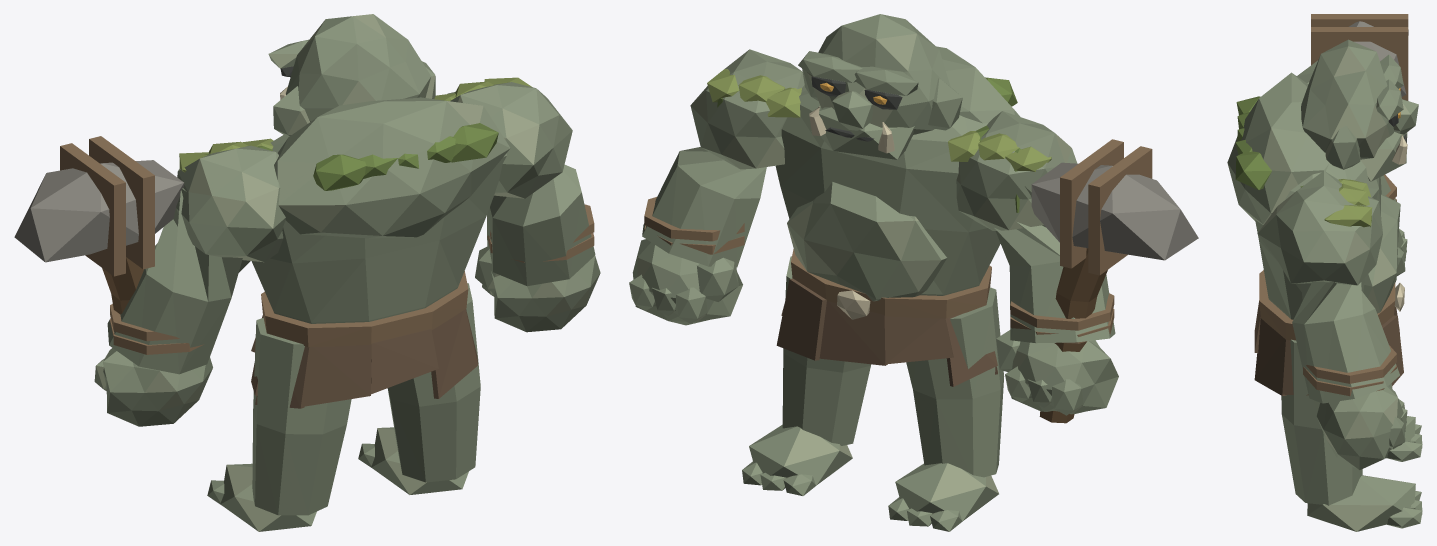
The model's file is Moss_Cave_Giant.glb.
The picture shows the model from 3 angles, left to right: view 1: azimuth 30°, elevation 25°; view 2: azimuth 150°, elevation 25°; view 3: azimuth 270°, elevation 25°; orthographic projection. The views are drawn at different scales.
Parts seen in each view (by area): view 1: Torso, Arm_R, Arm_L, Leg_R, Leg_L, Weapon; view 2: Torso, Arm_R, Arm_L, Leg_R, Leg_L, Weapon; view 3: Torso, Arm_L, Leg_L, Arm_R, Leg_R, Weapon.
Part boxes in pixels (x1,y1,x2,y2): Torso: (233,14,510,347); Arm_R: (60,136,285,426); Arm_L: (449,77,600,332); Leg_R: (207,315,438,531); Leg_L: (358,297,480,494); Weapon: (14,160,184,314); Torso: (755,14,1018,318); Arm_R: (961,110,1152,415); Arm_L: (629,49,801,323); Leg_R: (829,287,1084,531); Leg_L: (668,272,884,495); Weapon: (1031,162,1198,423); Torso: (1227,39,1418,342); Arm_L: (1257,171,1407,470); Leg_L: (1254,303,1422,531); Arm_R: (1297,14,1408,275); Leg_R: (1254,300,1422,461); Weapon: (1349,21,1408,96).
Size of the model in its own units: 3.62 by 3.04 by 1.2.
